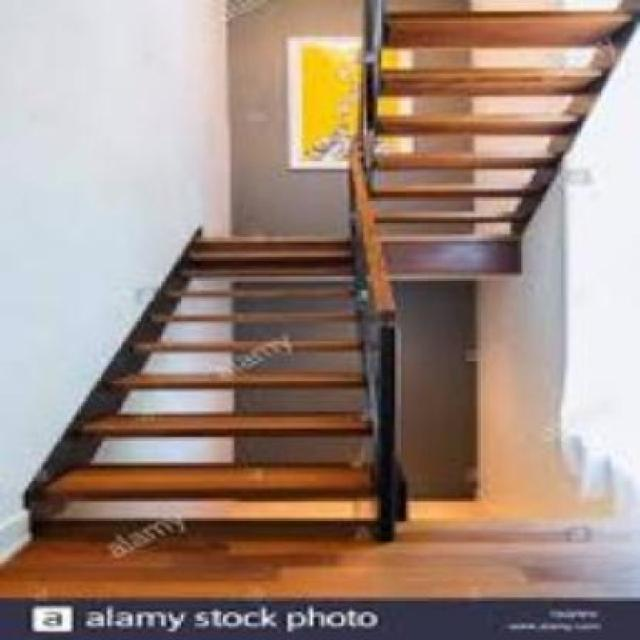stair: (46, 220, 392, 546)
